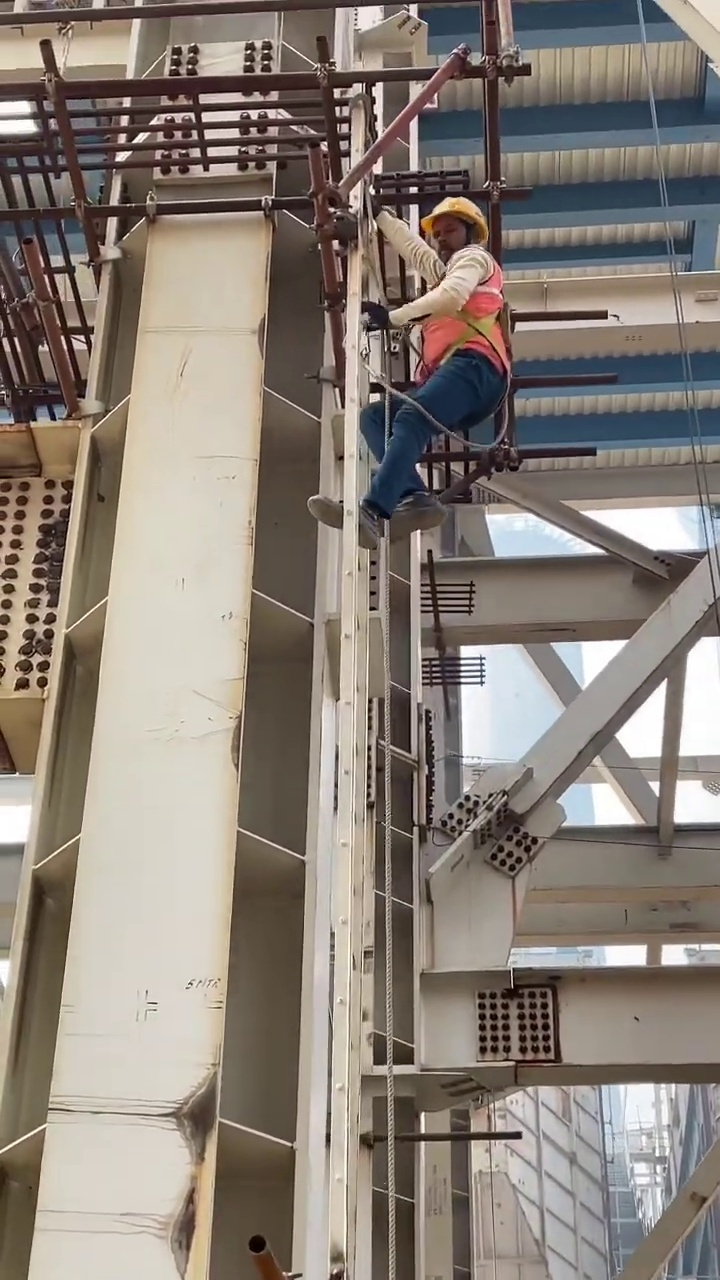Helmet: (423, 195, 489, 232)
Person: (306, 194, 516, 550)
Safety_Harness: (398, 250, 516, 447)
Safety_shoes: (306, 492, 380, 550), (390, 491, 445, 538)
